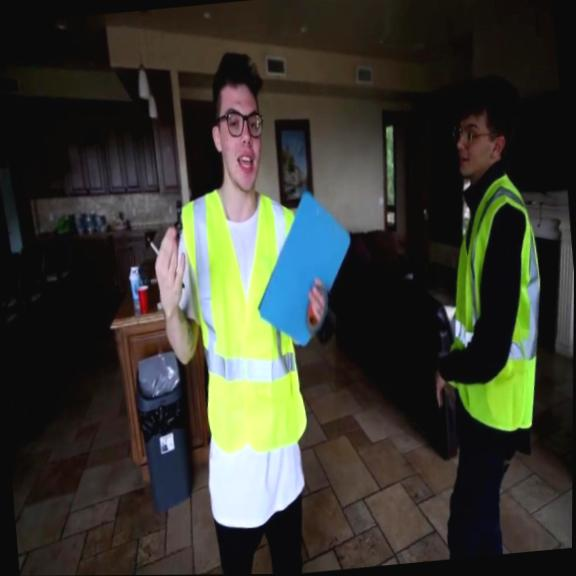safety_vest: (176, 182, 315, 459), (430, 169, 559, 438)
